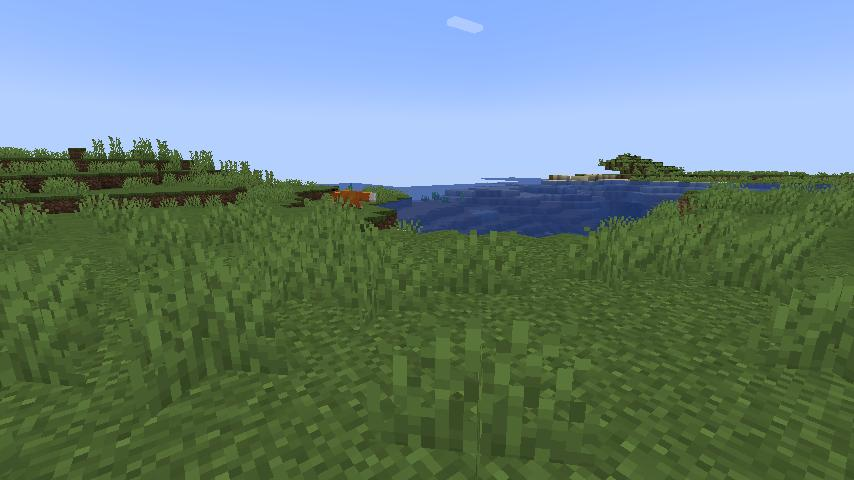fox: (322, 188, 380, 210)
